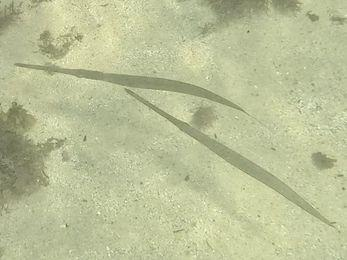Fistularia commersonii: (12, 58, 338, 231), (103, 75, 330, 227)
